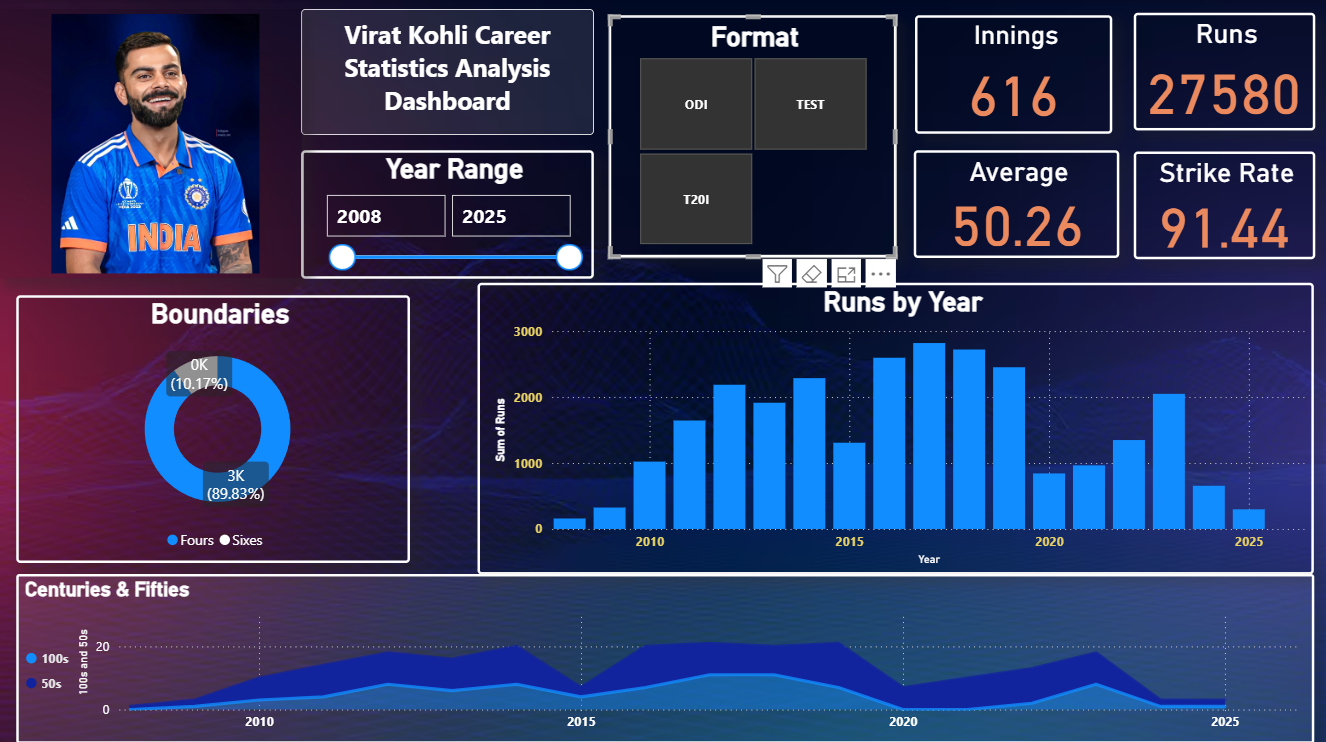

This screenshot's page, from the dashboard's own definition file:
{"tool":"powerbi","page":{"name":"Page 1","canvas":[1280,720],"ordinal":0},"visuals":[{"type":"textbox","box":[291.2,10,282.5,121.2],"z":0},{"type":"card","title":"Innings","fields":{"Values":["Sum(Sheet2.Innings)"]},"box":[883.1,15.7,190.6,114.6],"z":1000},{"type":"card","title":"Runs","fields":{"Values":["Sum(Sheet2.Runs)"]},"box":[1093.8,13.8,175,113.8],"z":2000},{"type":"card","title":"Average","fields":{"Values":["Avg(Sheet2.Avg)"]},"box":[882.5,146.2,198.8,103.8],"z":3000},{"type":"card","title":"Strike Rate","fields":{"Values":["Avg(Sheet2.SR)"]},"box":[1093.8,147.5,175,103.8],"z":4000},{"type":"slicer","title":"Format","fields":{"Values":["Sheet2.Format"]},"box":[587.5,16.2,277.5,233.8],"z":5000},{"type":"slicer","title":"Year Range","fields":{"Values":["Sheet2.Year "]},"box":[291.2,146.2,282.5,123.8],"z":6000},{"type":"clusteredColumnChart","title":"Runs by Year ","fields":{"Category":["Sheet2.Year "],"Y":["Sum(Sheet2.Runs)"]},"box":[461.2,273.8,807.5,281.2],"z":7000},{"type":"donutChart","title":"Boundaries","fields":{"Y":["Sum(Sheet2.4s)","Sum(Sheet2.6s)"]},"box":[16.2,286.2,380,258.8],"z":8000},{"type":"stackedAreaChart","title":"Centuries & Fifties","fields":{"Y":["Sum(Sheet2.100)","Sum(Sheet2.50)"],"Category":["Sheet2.Year "]},"box":[16.2,555,1252.5,165],"z":9000},{"type":"image","box":[0,10,291.2,260],"z":10000}]}

Visuals, with their boxes in screenshot pixels (x1, y1, x2, y2), scaled from the page's 1280x720 canvas onto the 1326x742 screenshot:
textbox: <box>302,10,594,135</box>
"Innings" card: <box>915,16,1112,134</box>
"Runs" card: <box>1133,14,1314,131</box>
"Average" card: <box>914,151,1120,258</box>
"Strike Rate" card: <box>1133,152,1314,259</box>
"Format" slicer: <box>609,17,896,258</box>
"Year Range" slicer: <box>302,151,594,278</box>
"Runs by Year " clusteredColumnChart: <box>478,282,1314,572</box>
"Boundaries" donutChart: <box>17,295,410,562</box>
"Centuries & Fifties" stackedAreaChart: <box>17,572,1314,741</box>
image: <box>0,10,302,278</box>
